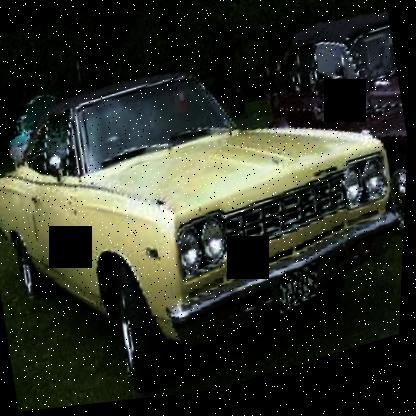not_emergency: (0, 7, 413, 415)
